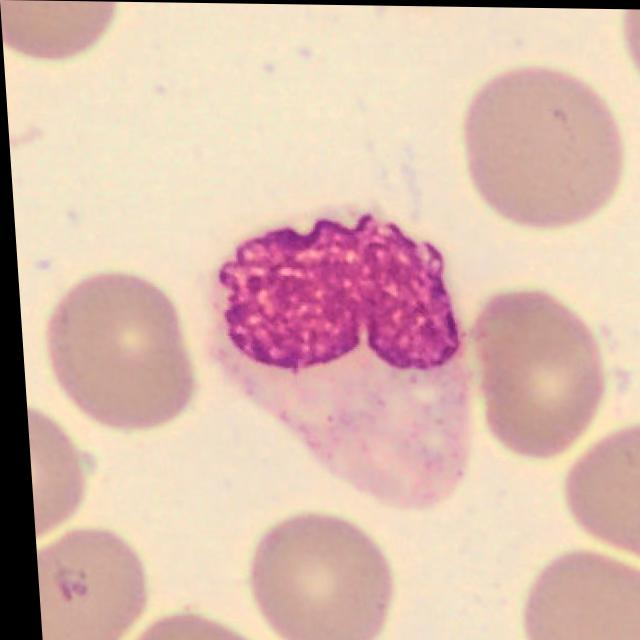Monocito: (215, 216, 462, 503)
